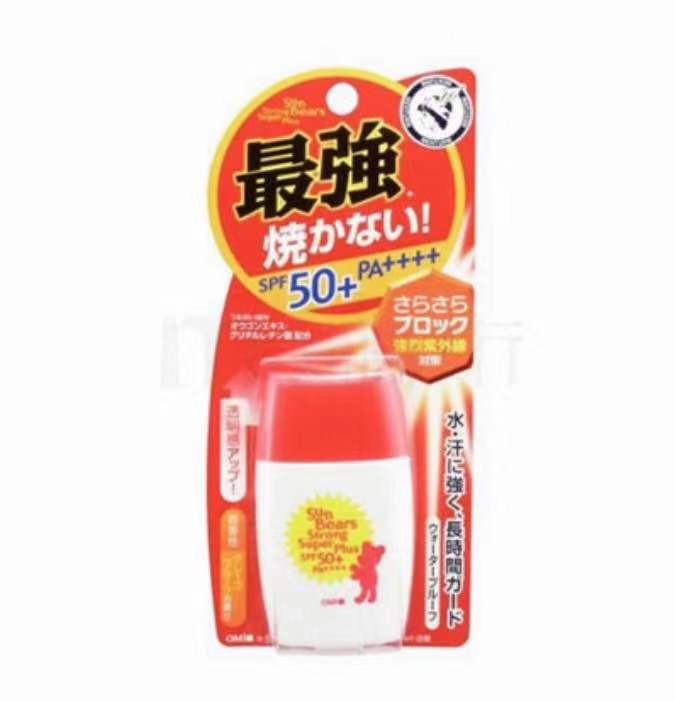cosmetic: (257, 372, 415, 656)
